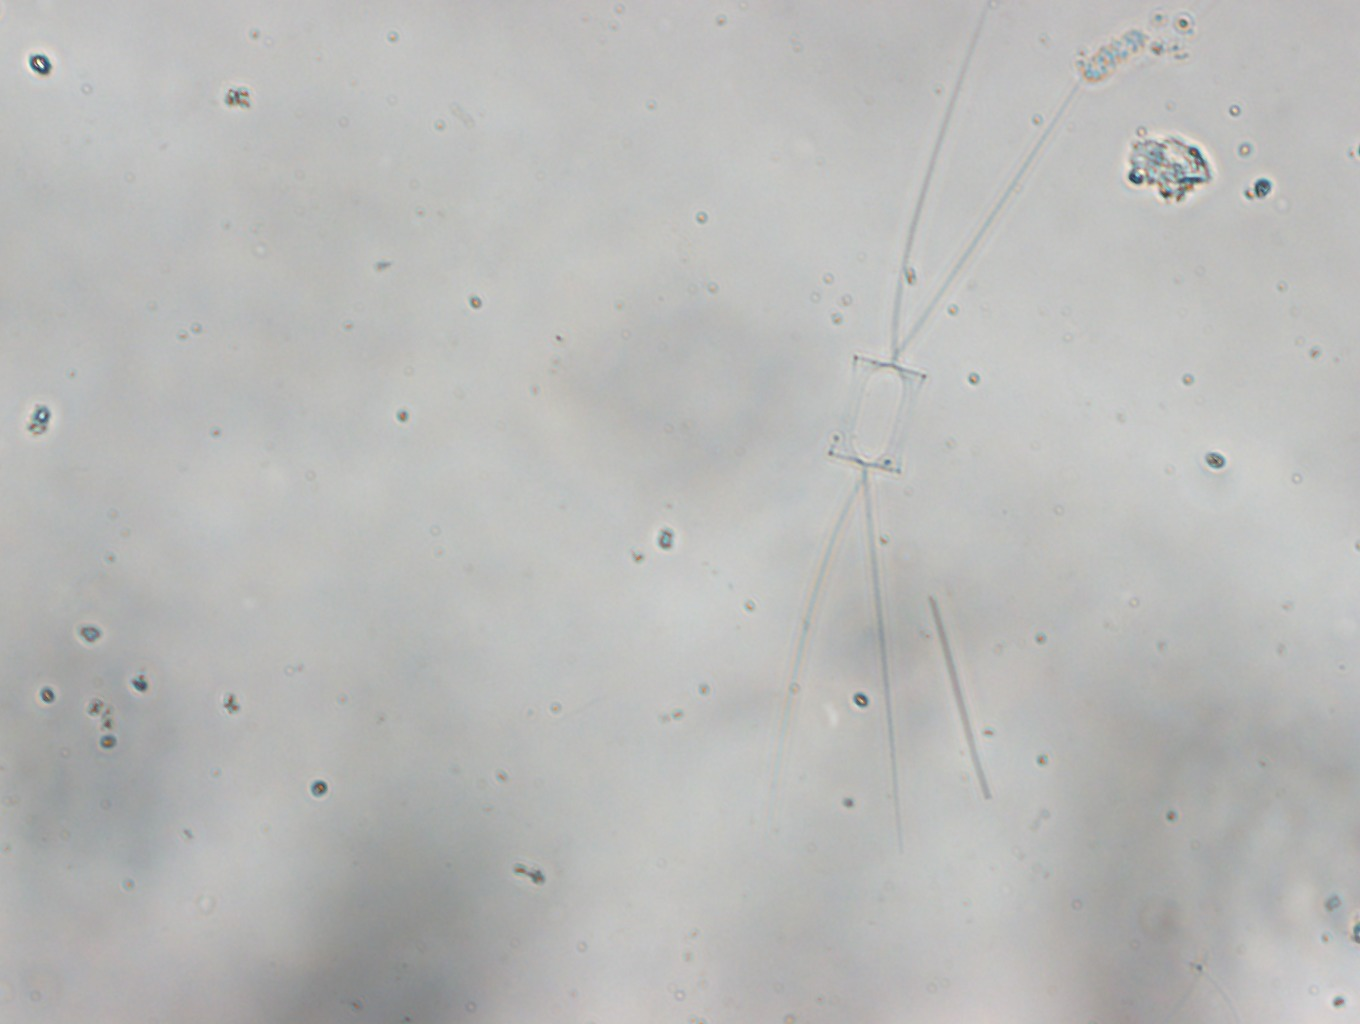chaetoceros: (796, 9, 1078, 842)
